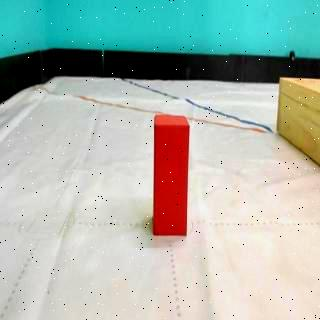redbox: (153, 113, 190, 234)
